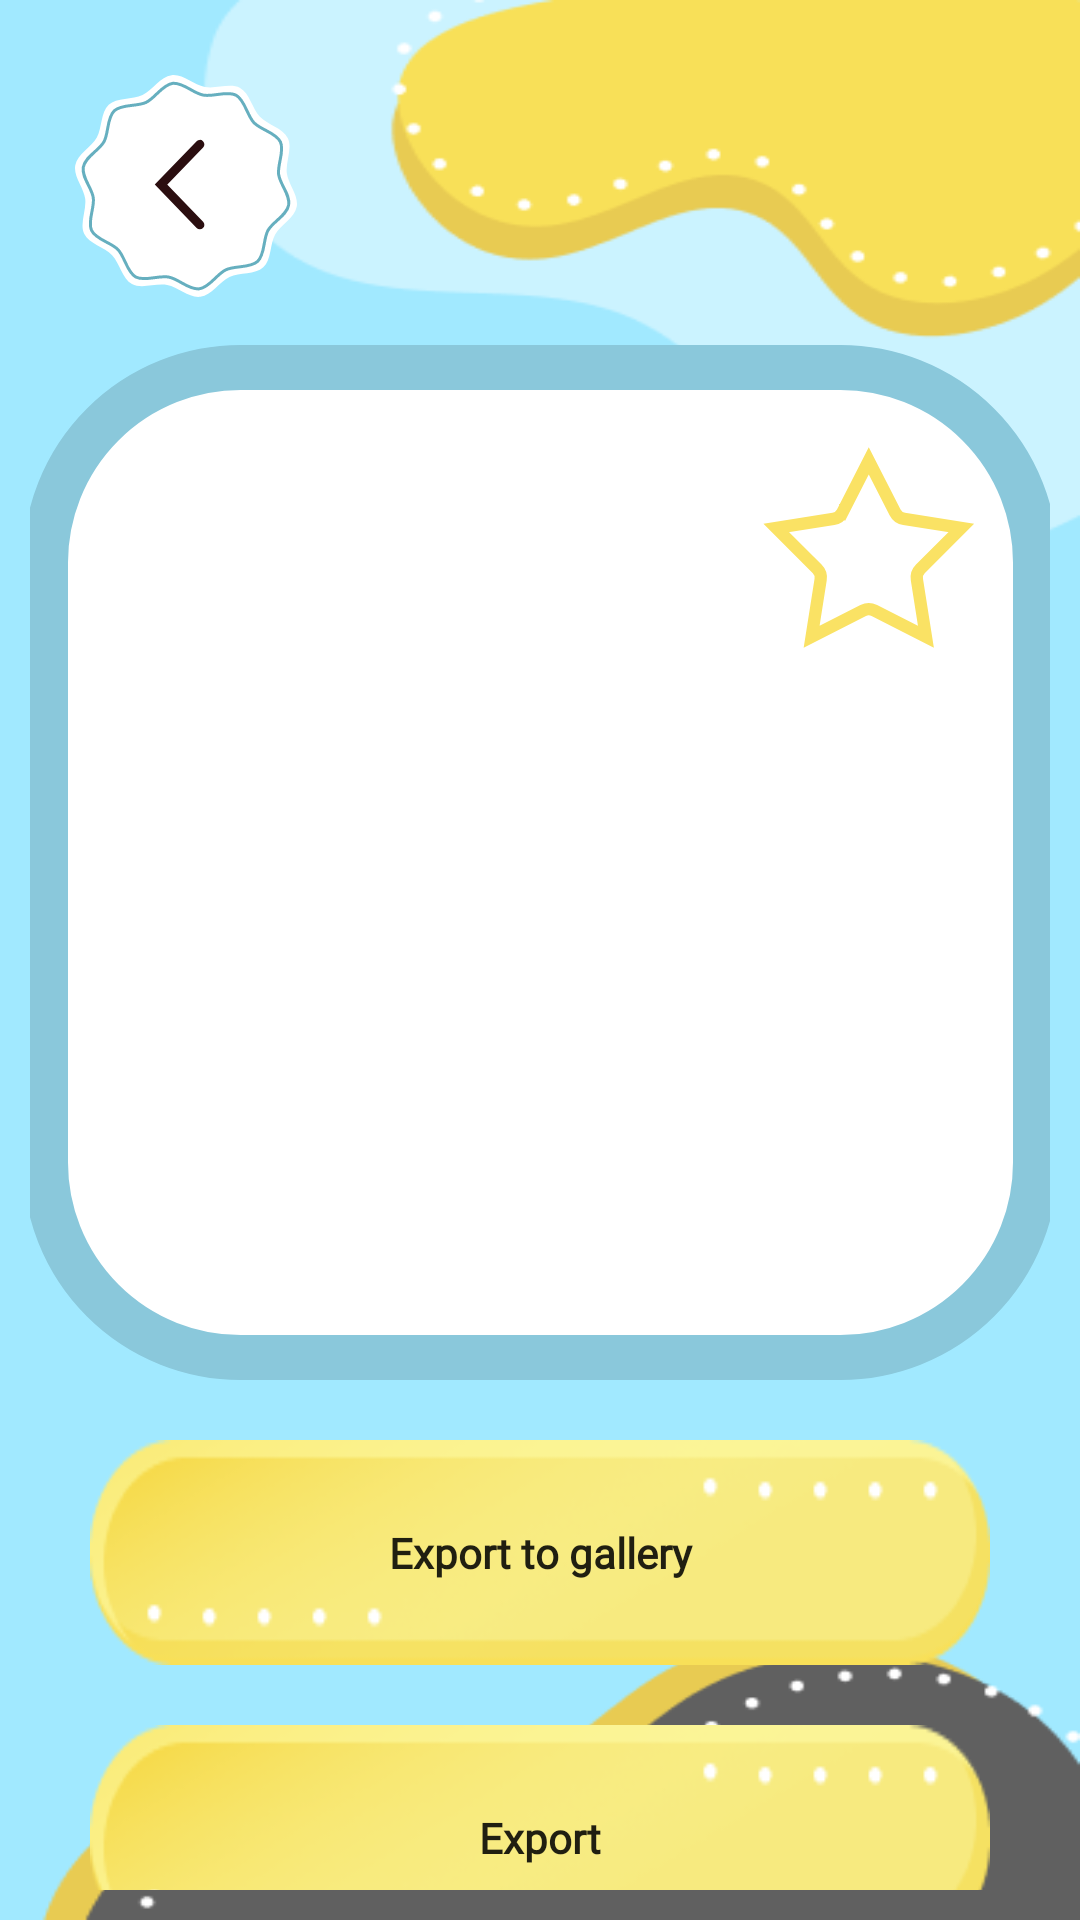

Icon click points for this 1080×1920 phone screenshot, format (x,y):
back skins: (186,186)
star: (869,547)
